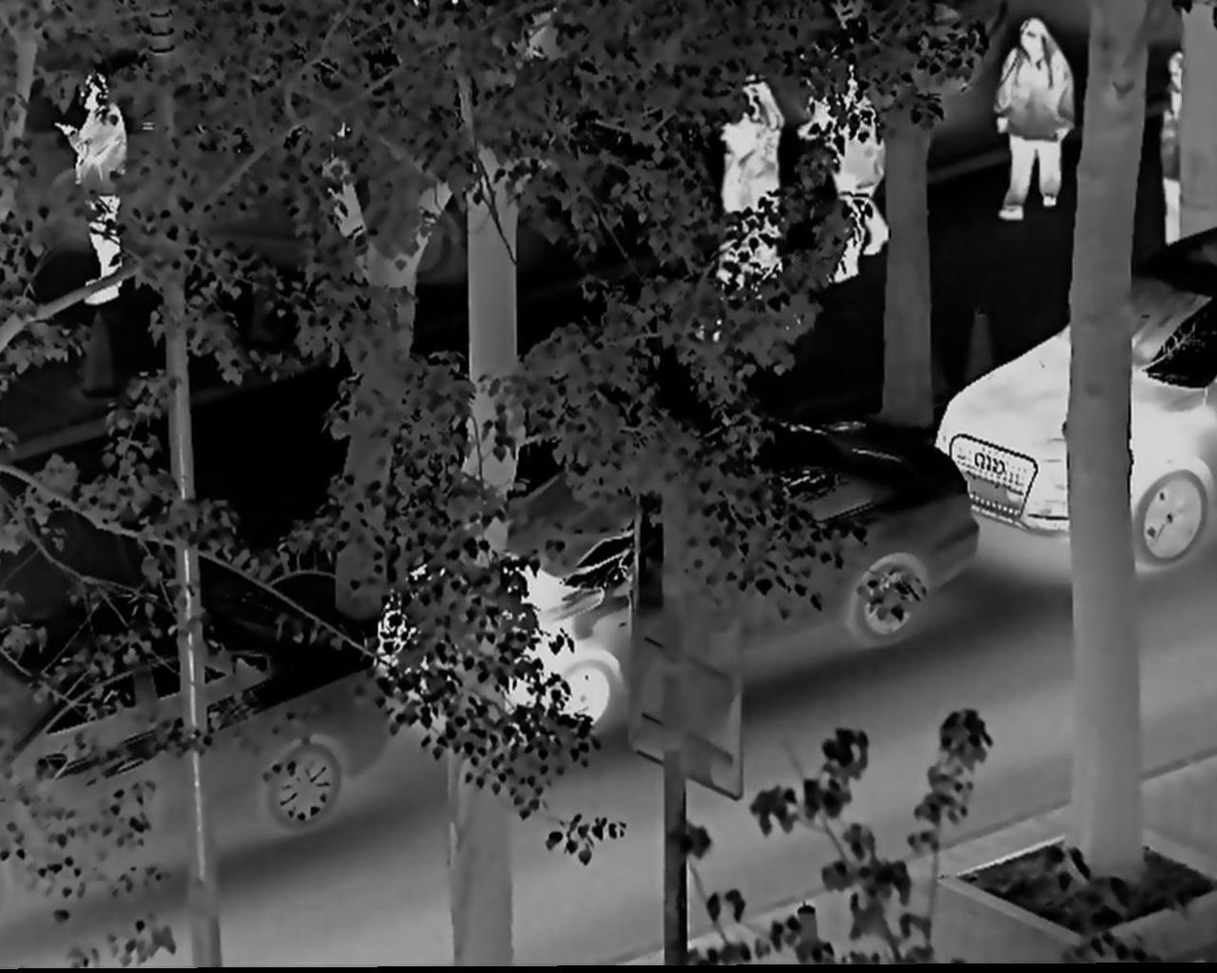person: (47, 64, 145, 317), (977, 10, 1072, 255), (695, 59, 782, 295), (804, 48, 885, 283)
